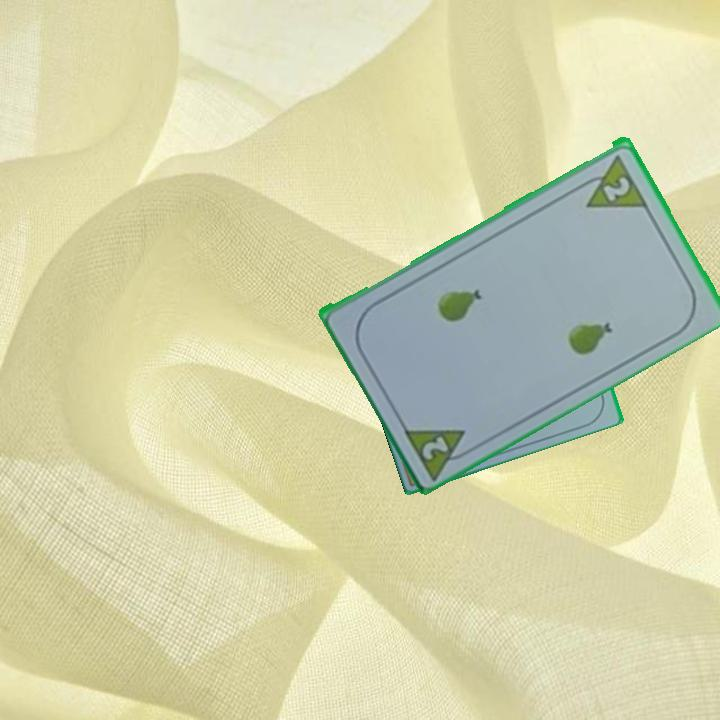2p: (599, 172, 634, 204), (418, 431, 452, 463)
